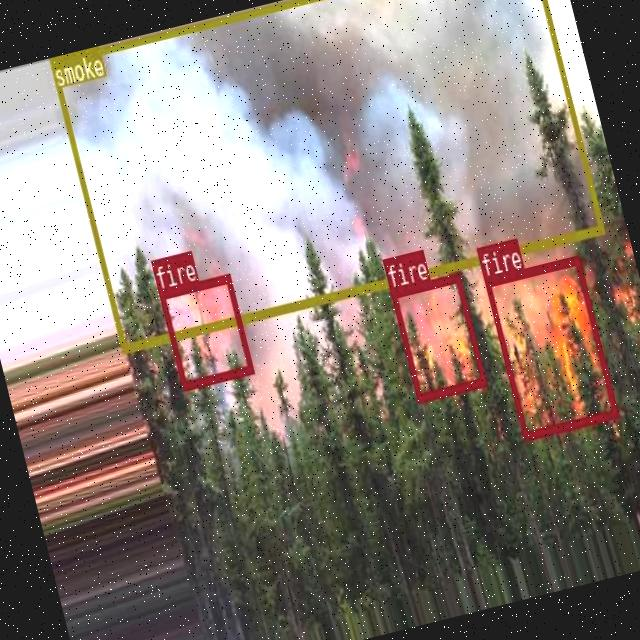fire: (483, 255, 618, 440), (389, 272, 485, 402), (157, 273, 253, 390)
smoke: (47, 0, 602, 350)
